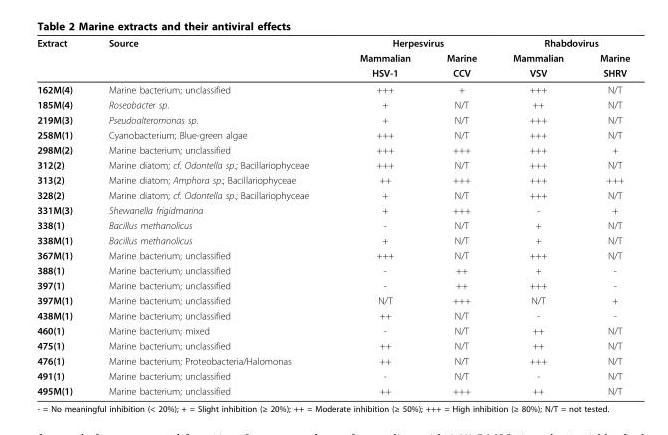table: (36, 36, 629, 396)
table column: (89, 36, 333, 396), (333, 36, 427, 396), (494, 36, 581, 396), (427, 36, 494, 396), (36, 36, 89, 396), (581, 36, 629, 396)
table column header: (36, 36, 629, 80)
table row: (36, 80, 629, 96), (36, 126, 629, 142), (36, 367, 629, 383), (36, 50, 629, 65), (36, 65, 629, 80), (36, 96, 629, 111), (36, 111, 629, 126), (36, 142, 629, 157), (36, 157, 629, 172), (36, 172, 629, 187), (36, 187, 629, 202), (36, 202, 629, 217), (36, 217, 629, 232), (36, 232, 629, 247), (36, 247, 629, 262), (36, 262, 629, 277), (36, 277, 629, 292), (36, 292, 629, 307), (36, 307, 629, 322), (36, 322, 629, 337), (36, 337, 629, 352), (36, 352, 629, 367), (36, 36, 629, 50), (36, 383, 629, 396)
table spanning cell: (89, 36, 333, 80), (333, 50, 427, 80), (494, 50, 581, 80), (36, 36, 89, 80), (333, 36, 494, 50), (427, 50, 494, 80), (494, 36, 629, 50), (581, 50, 629, 80)
